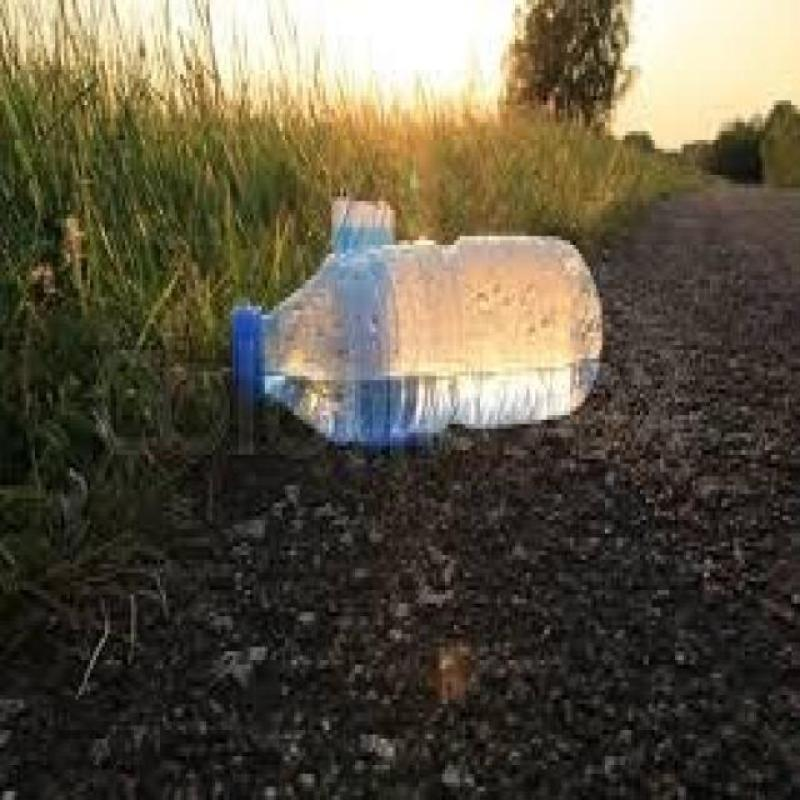botella: (233, 239, 605, 444)
